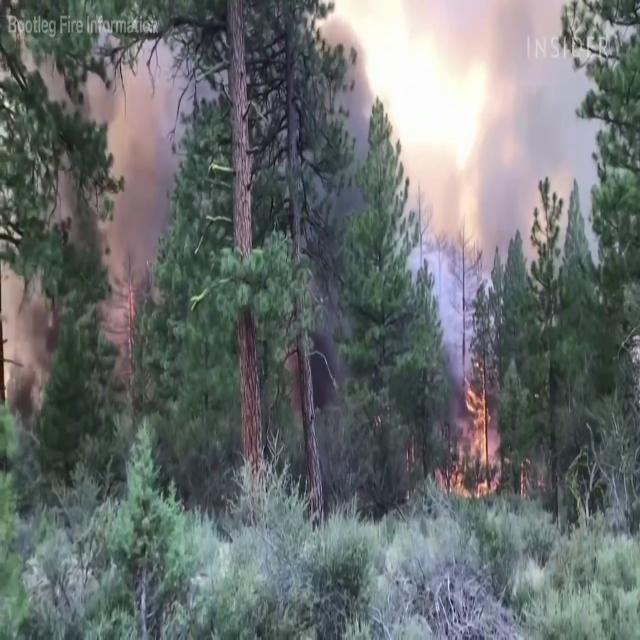Fire: (460, 373, 500, 497)
Smoke: (431, 16, 601, 287)
